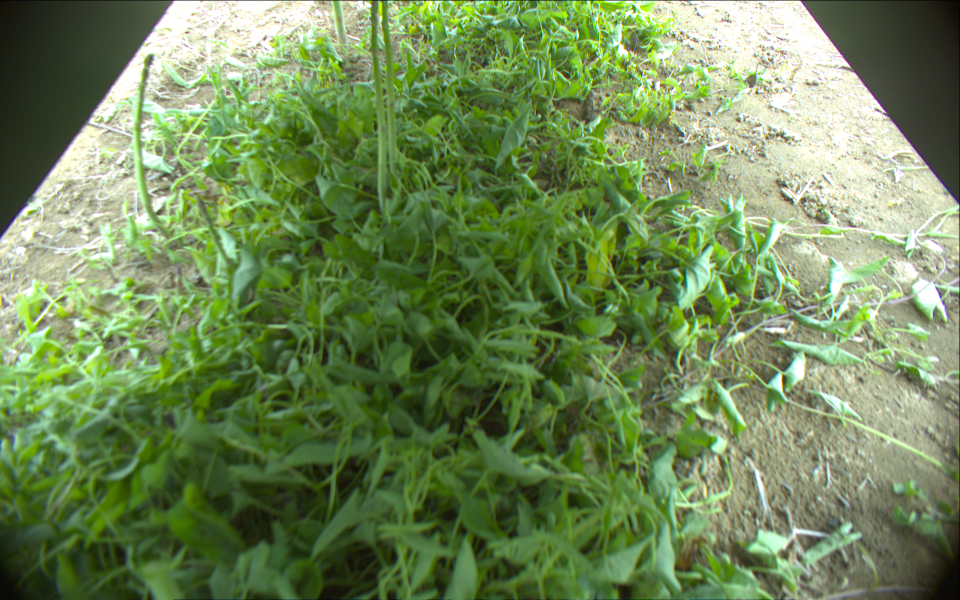aspa: (134, 53, 163, 243), (370, 1, 388, 216), (379, 1, 398, 174), (196, 198, 234, 271), (332, 1, 348, 49)
